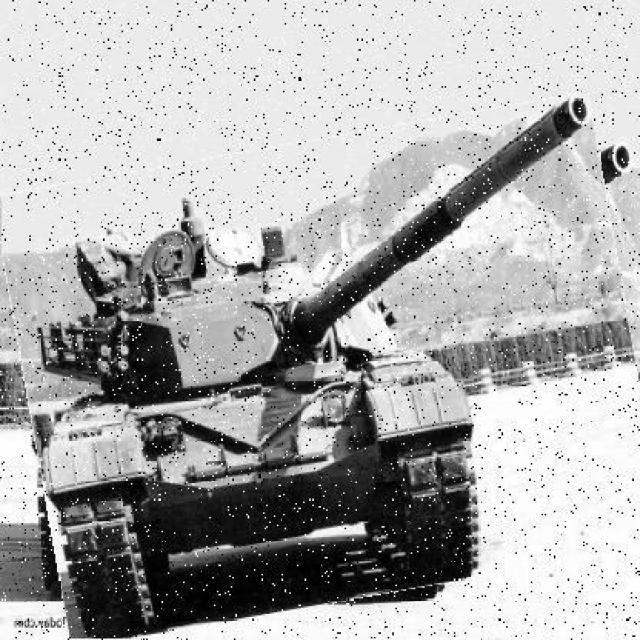Tank: (12, 118, 639, 627)
